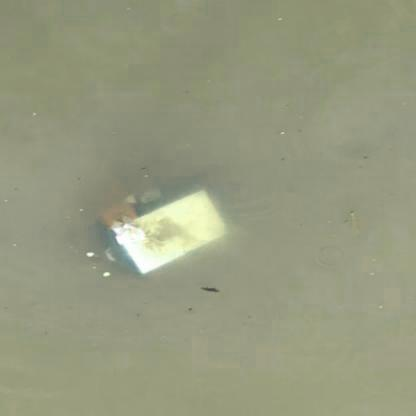Trash: (85, 172, 239, 279)
